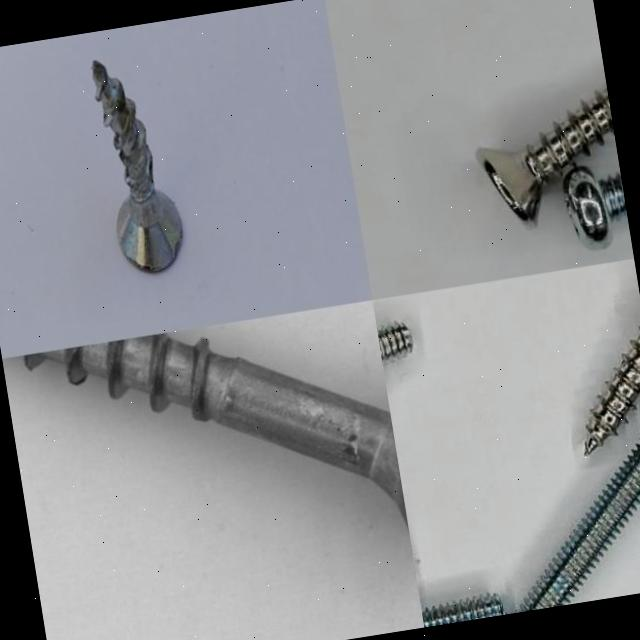Screw: (2, 300, 420, 640), (518, 444, 640, 613), (92, 60, 183, 271), (478, 87, 615, 222), (585, 335, 640, 455), (563, 167, 627, 250), (377, 323, 414, 363)
